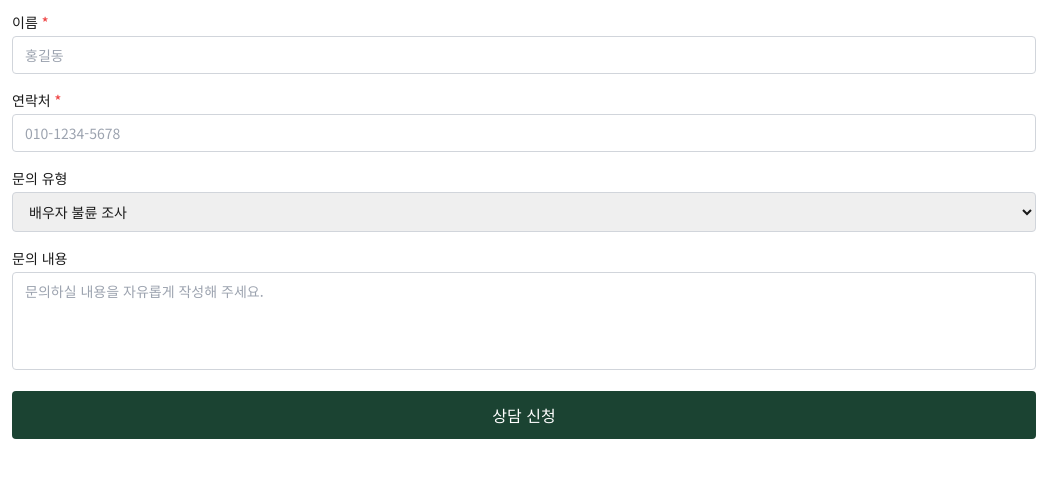
Test case: ConsultForm 유효성 검사 › 이름이 1자이면 에러를 표시한다
The width and height of the screenshot is (1048, 496).
Type "김" into the field labelled "이름" at x=524, y=55, box top-left (12, 36), bottom-right (1036, 74)
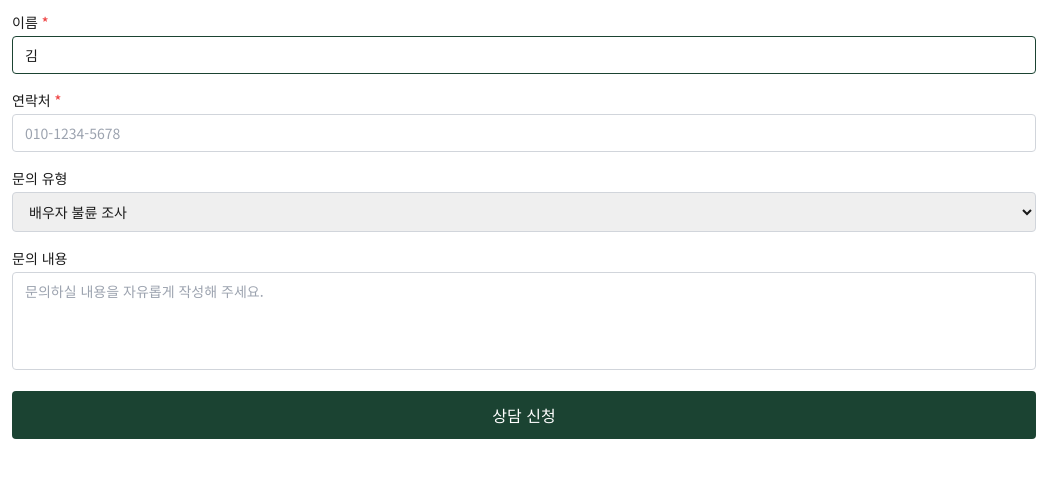
Leave the field labelled "이름", box top-left (12, 36), bottom-right (1036, 74)
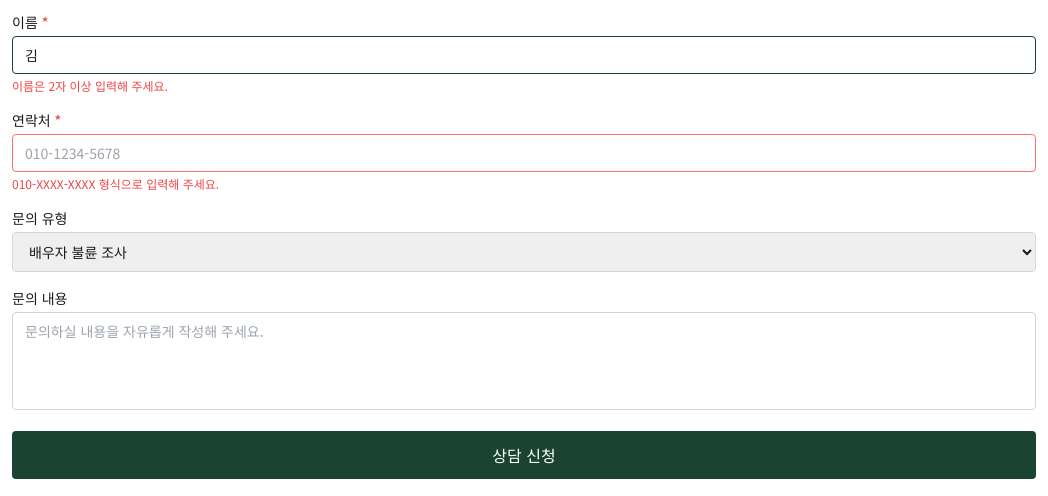
Expected: the text "이름은 2자 이상 입력해 주세요." is shown, top-left (12, 77), bottom-right (168, 94)
